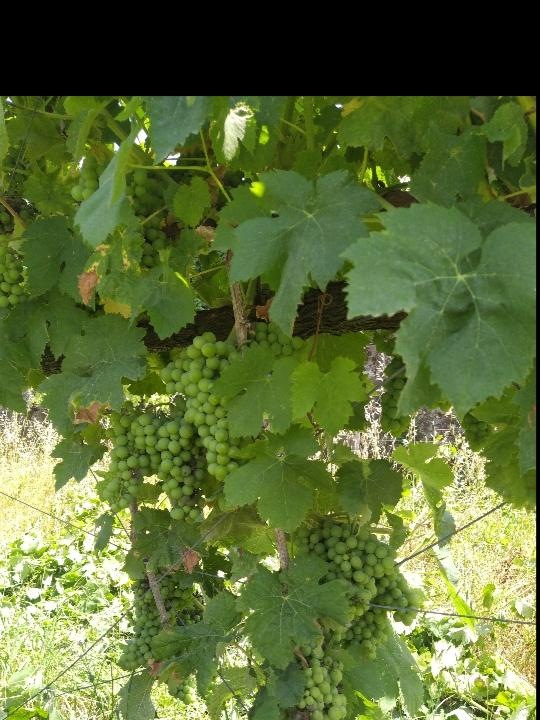grape: (159, 330, 252, 484), (293, 520, 396, 645)
